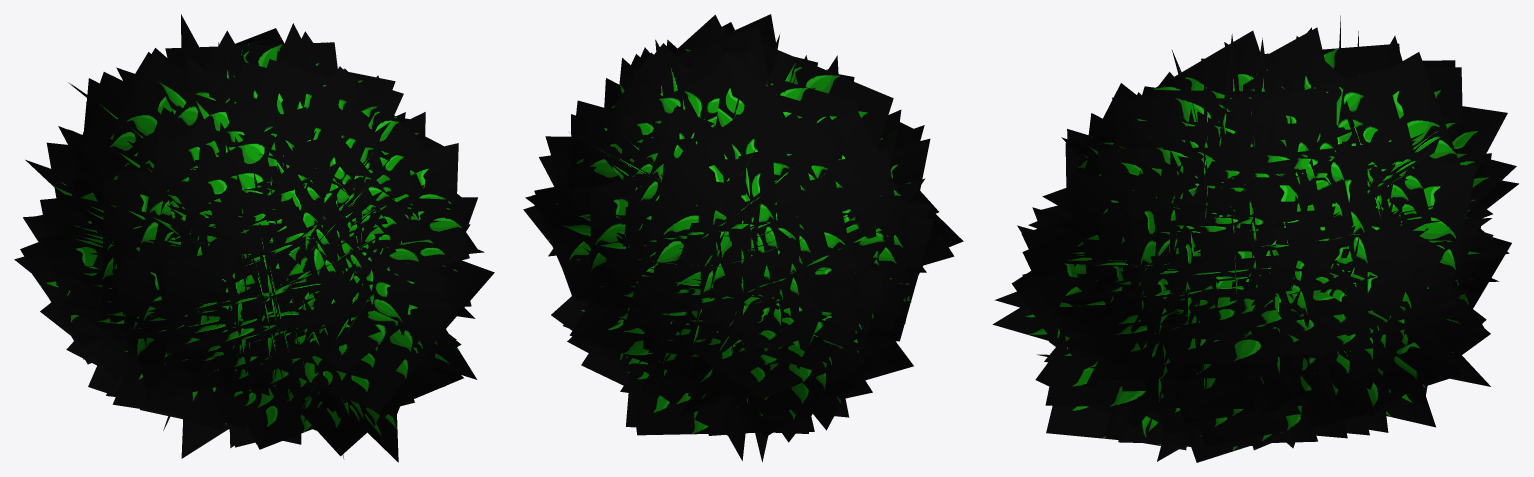
Rendered from bush2.0.fbx.
The picture shows the model from 3 angles, left to right: view 1: azimuth 30°, elevation 25°; view 2: azimuth 150°, elevation 25°; view 3: azimuth 270°, elevation 25°; orthographic projection. The views are drawn at different scales.
Visible parts, largest first — view 1: Bush; view 2: Bush; view 3: Bush.
Part boxes in pixels (box(x1,y1,x2,y2)): Bush: box(14, 14, 494, 462); Bush: box(523, 14, 963, 461); Bush: box(992, 15, 1518, 462).
Size of the model in its own units: 342 by 387 by 334.
